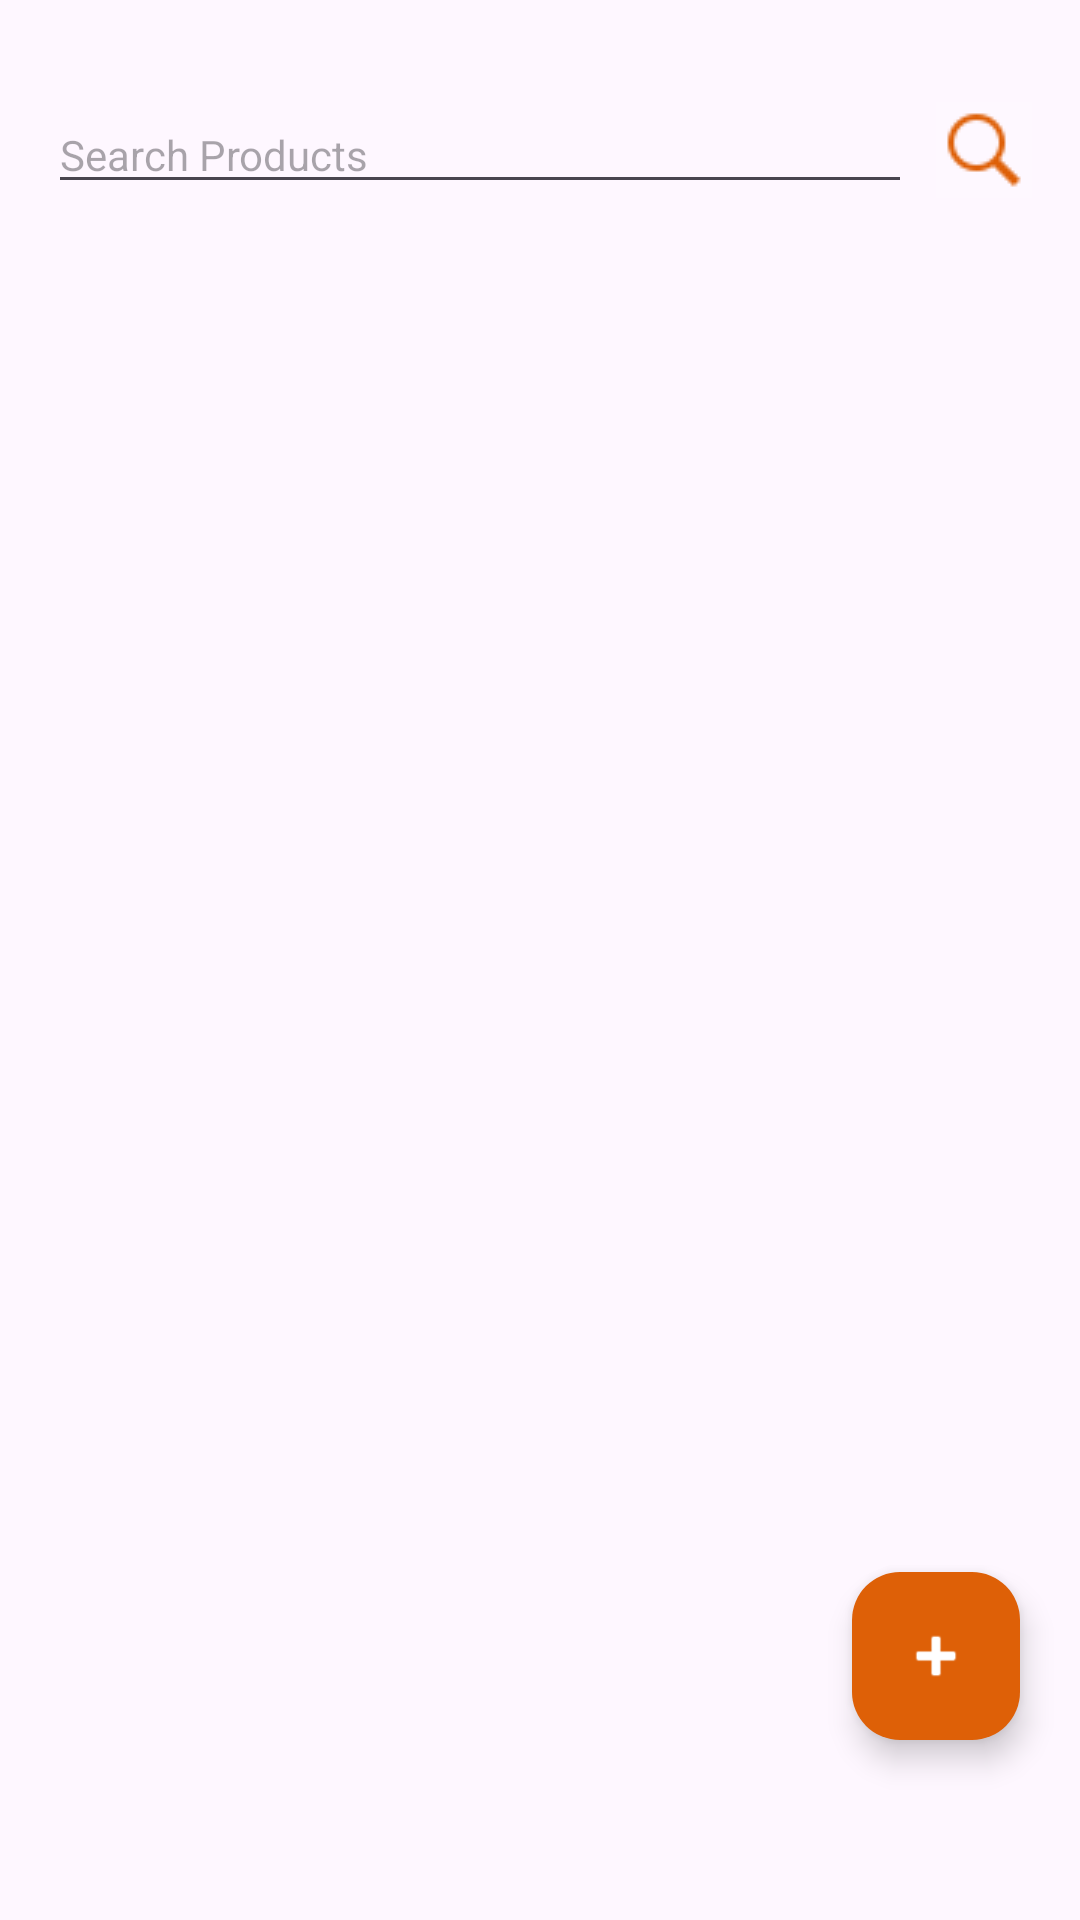

Screen size 1080*1920. Icon name, then its box in pixels as [x1,y1,x2,y2]:
add: [852,1572,1020,1740]
